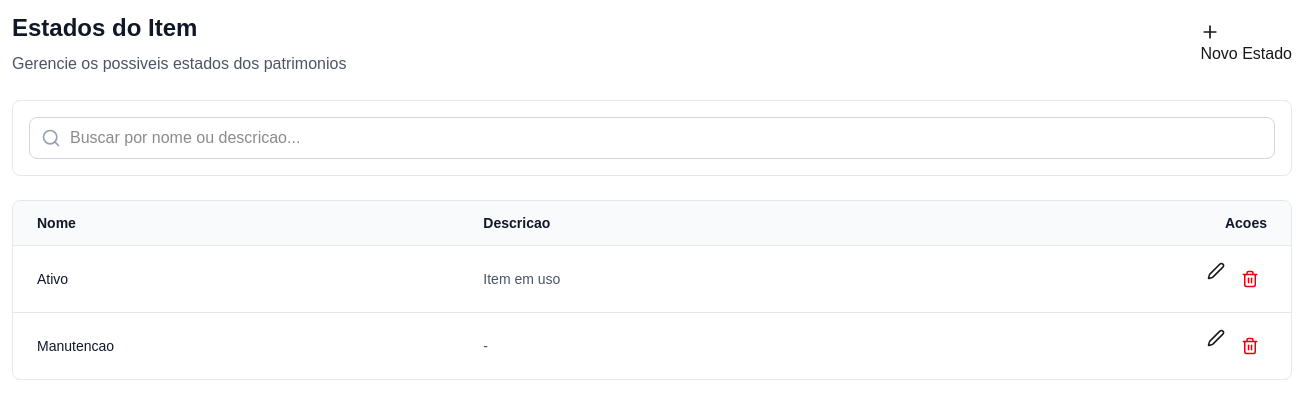
it: EstadosItemList › delete com sucesso remove da lista e exibe toast
Expected: the text "Ativo" is shown, [13, 246, 459, 312]
Step 1. Click the button without text in the row of "Ativo" → (1250, 279), box [1233, 262, 1267, 296]
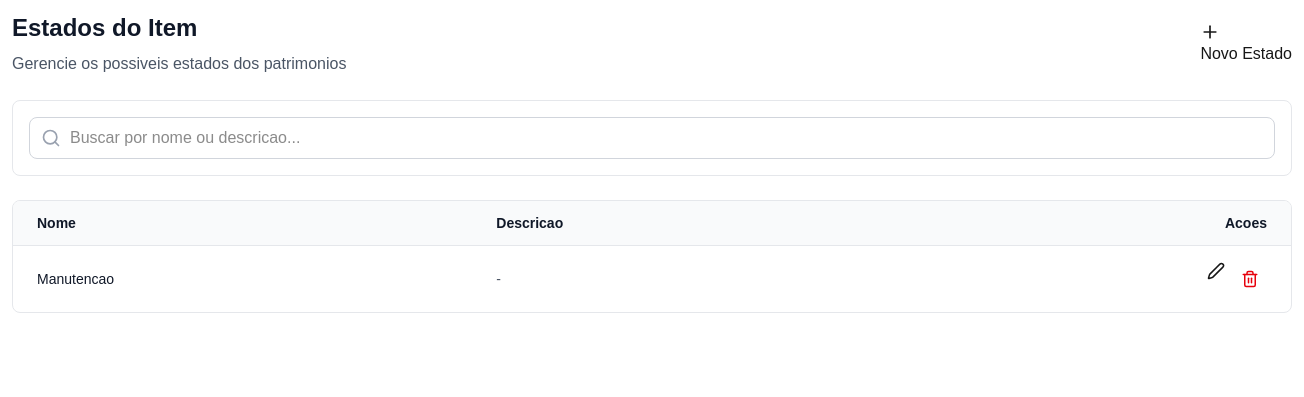
Result: the text "Ativo" is gone
